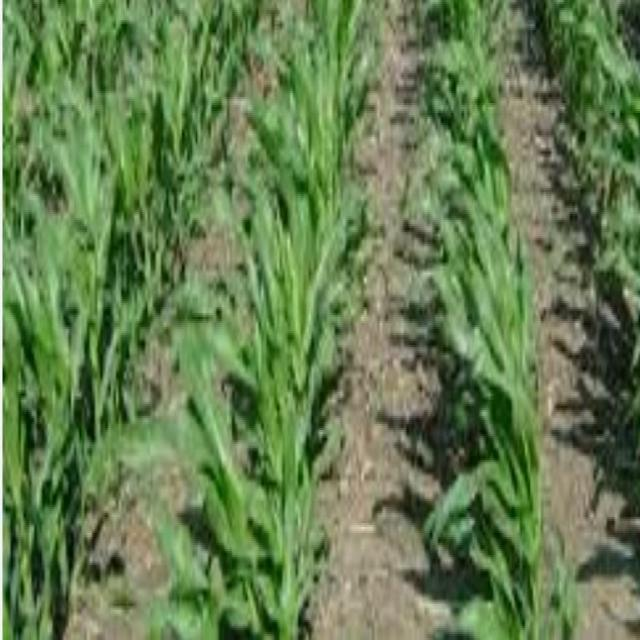row: (52, 2, 315, 640), (306, 4, 463, 640), (495, 0, 640, 640)
